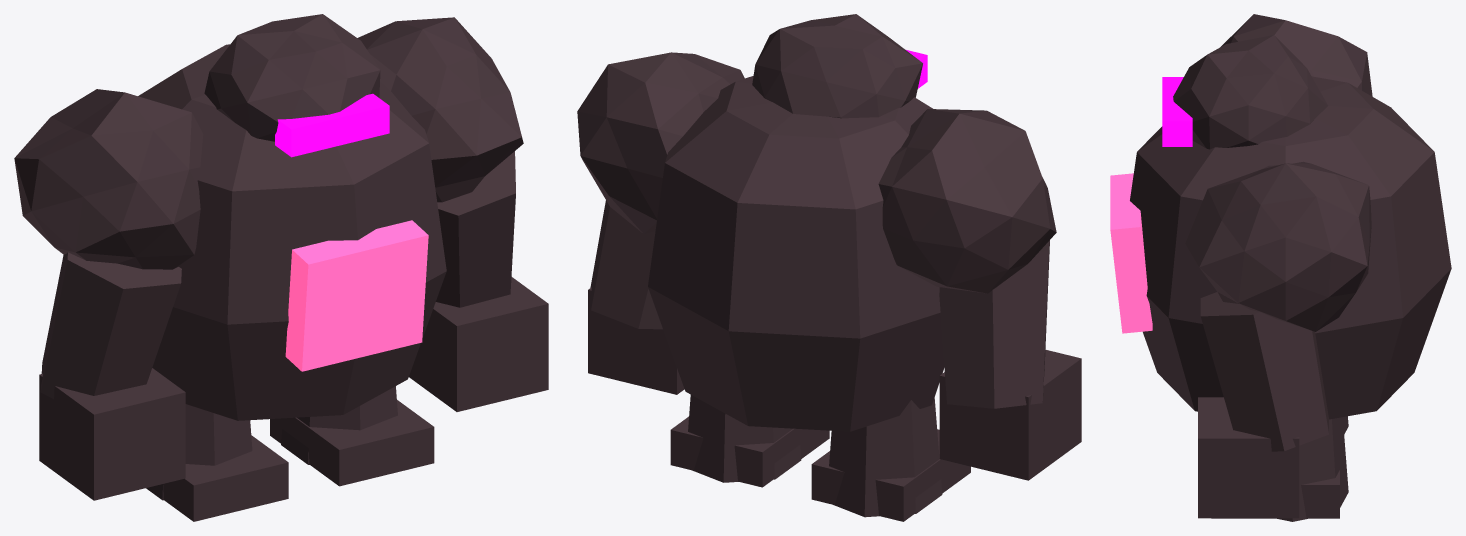
The model's file is tank.fbx.
The picture shows the model from 3 angles, left to right: view 1: azimuth 30°, elevation 25°; view 2: azimuth 150°, elevation 25°; view 3: azimuth 270°, elevation 25°; orthographic projection. The views are drawn at different scales.
Visible parts, largest first — view 1: SM_tank_MAT_Rock, SM_tank_MAT_GlowRed, SM_tank_MAT_GlowMagenta; view 2: SM_tank_MAT_Rock; view 3: SM_tank_MAT_Rock, SM_tank_MAT_GlowRed, SM_tank_MAT_GlowMagenta.
Boxes of the visible parts, left/top/right/bottom form: SM_tank_MAT_Rock: left=14, top=14, right=548, bottom=521; SM_tank_MAT_GlowRed: left=285, top=220, right=428, bottom=371; SM_tank_MAT_GlowMagenta: left=275, top=93, right=389, bottom=157; SM_tank_MAT_Rock: left=577, top=14, right=1081, bottom=521; SM_tank_MAT_Rock: left=1130, top=14, right=1451, bottom=521; SM_tank_MAT_GlowRed: left=1110, top=173, right=1152, bottom=333; SM_tank_MAT_GlowMagenta: left=1162, top=77, right=1192, bottom=146.
Bounding box in the file's own units: 2.11 × 1.89 × 1.41.
